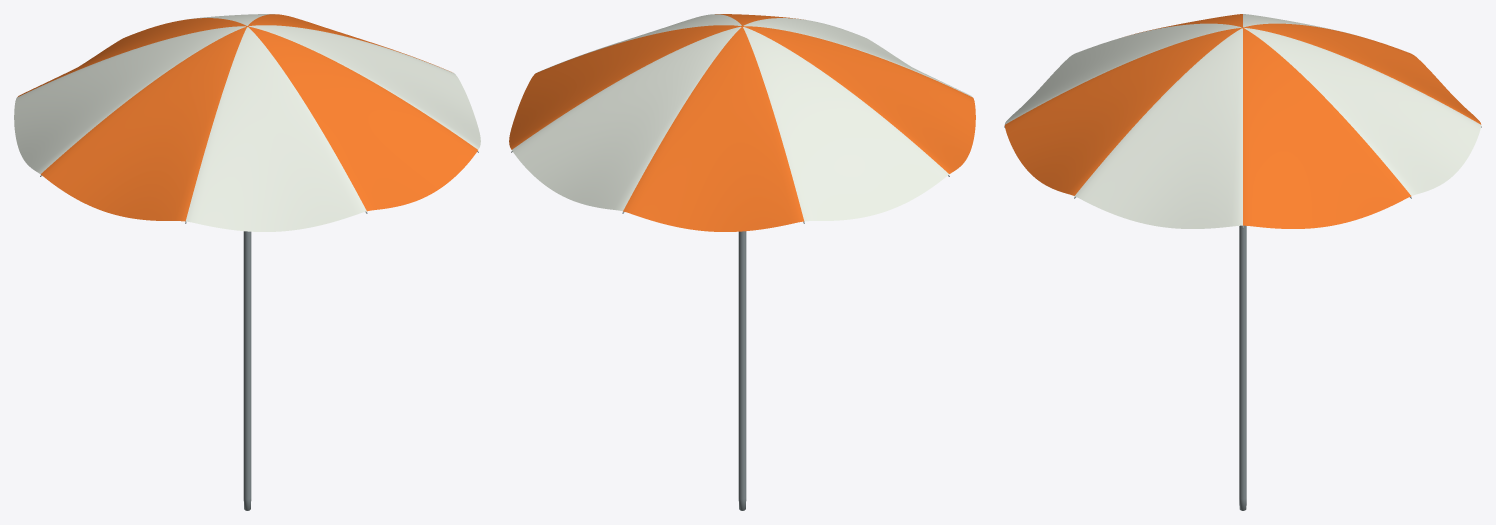
Rendered from Beach_umbrella.glb.
3 views of the same model, side by side, from view 1: azimuth 30°, elevation 25°; view 2: azimuth 150°, elevation 25°; view 3: azimuth 270°, elevation 25° (orthographic).
Visible parts, largest first — view 1: Beach_umbrella_GameMesh; view 2: Beach_umbrella_GameMesh; view 3: Beach_umbrella_GameMesh.
Boxes of the visible parts, x1,y1,x2,y2 form: Beach_umbrella_GameMesh: (14, 14, 480, 510); Beach_umbrella_GameMesh: (509, 14, 975, 510); Beach_umbrella_GameMesh: (1004, 14, 1481, 510).
Size of the model in its own units: 2.2 by 2.45 by 2.2.
